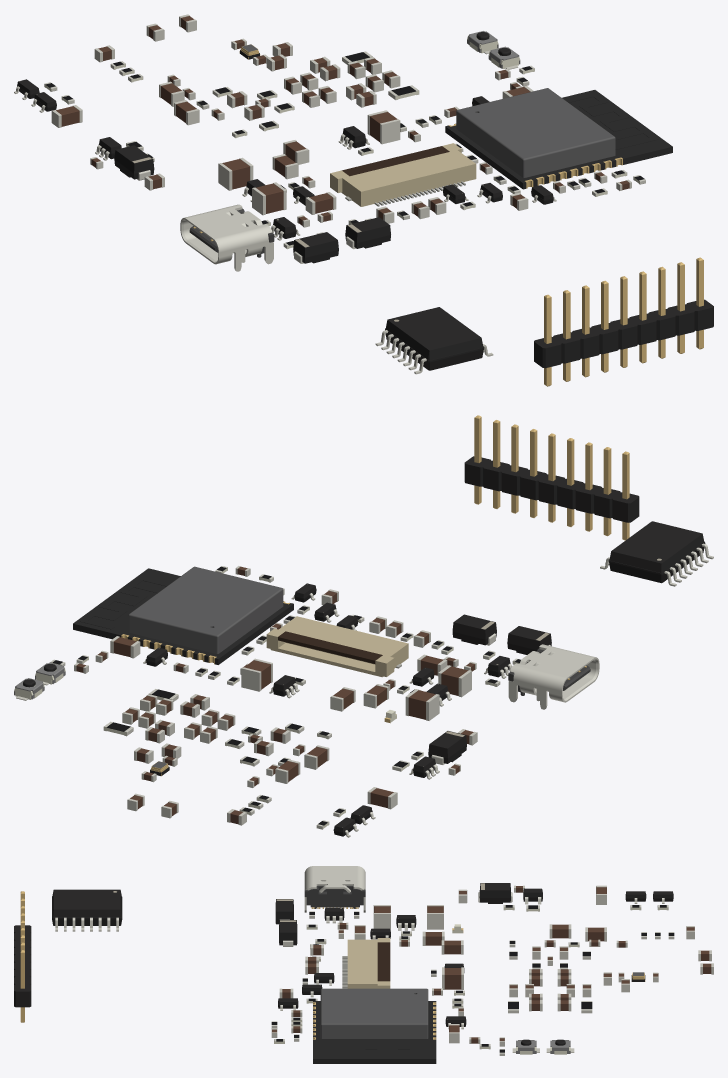
The model's file is components.glb.
The picture shows the model from 3 angles, top to bottom: view 1: azimuth 30°, elevation 25°; view 2: azimuth 150°, elevation 25°; view 3: azimuth 270°, elevation 25°; orthographic projection. The views are drawn at different scales.
Parts seen in each view (by area): view 1: =>[0:1:1:66], =>[0:1:1:25], FH12A-24S-0.5SH-envelope (Shell) (×2), =>[0:1:1:62], =>[0:1:1:27], =>[0:1:1:11] (×3), =>[0:1:1:17] (×3); view 2: =>[0:1:1:66], =>[0:1:1:25], FH12A-24S-0.5SH-envelope (Shell) (×3), =>[0:1:1:62], =>[0:1:1:27], =>[0:1:1:11] (×3), =>[0:1:1:17] (×3); view 3: =>[0:1:1:66], =>[0:1:1:62], =>[0:1:1:27], FH12A-24S-0.5SH-envelope (Shell) (×2), =>[0:1:1:25], =>[0:1:1:11] (×3), =>[0:1:1:17] (×3), =>[0:1:1:21] (×2), =>[0:1:1:19] (×2).
Boxes of the visible parts, x1,y1,x2,y2 form: =>[0:1:1:66]: [445, 88, 672, 189]; =>[0:1:1:25]: [534, 257, 713, 386]; FH12A-24S-0.5SH-envelope (Shell) (×2): [342, 146, 476, 204]; =>[0:1:1:62]: [375, 307, 493, 374]; =>[0:1:1:27]: [180, 204, 274, 271]; =>[0:1:1:11] (×3): [114, 145, 390, 263]; =>[0:1:1:17] (×3): [218, 110, 400, 215]; =>[0:1:1:66]: [73, 566, 293, 664]; =>[0:1:1:25]: [464, 415, 639, 540]; FH12A-24S-0.5SH-envelope (Shell) (×3): [270, 616, 408, 677]; =>[0:1:1:62]: [600, 521, 713, 586]; =>[0:1:1:27]: [508, 644, 599, 709]; =>[0:1:1:11] (×3): [428, 614, 551, 764]; =>[0:1:1:17] (×3): [241, 658, 471, 720]; =>[0:1:1:66]: [313, 988, 436, 1063]; =>[0:1:1:62]: [52, 889, 122, 931]; =>[0:1:1:27]: [304, 866, 365, 912]; FH12A-24S-0.5SH-envelope (Shell) (×2): [347, 939, 390, 988]; =>[0:1:1:25]: [14, 891, 31, 1022]; =>[0:1:1:11] (×3): [275, 883, 512, 946]; =>[0:1:1:17] (×3): [373, 905, 463, 989]; =>[0:1:1:21] (×2): [512, 1039, 574, 1054]; =>[0:1:1:19] (×2): [441, 924, 571, 954].
Size of the model in its own units: 0.0613 by 0.0115 by 0.1022.
